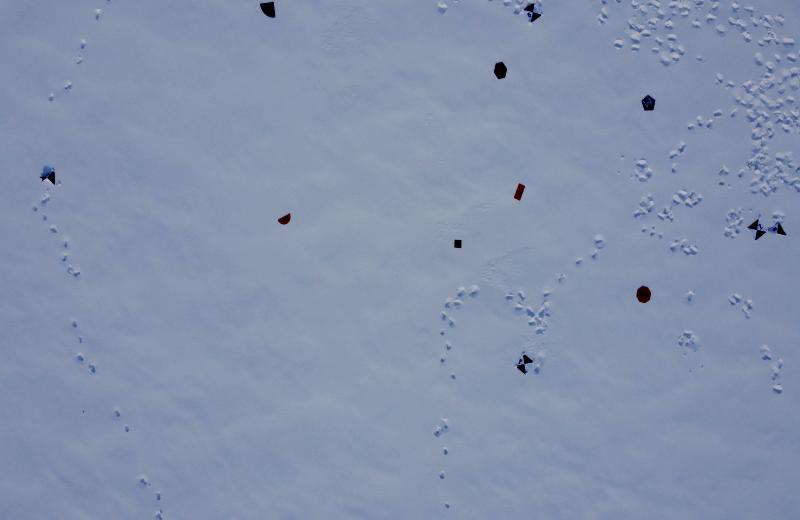Hexagon: (493, 62, 508, 80)
Octagon: (637, 286, 651, 303)
Pentagon: (642, 95, 656, 112)
Quarter Circle: (259, 2, 277, 18)
Rectangle: (514, 183, 526, 202)
Semi Circle: (277, 213, 292, 225)
Square: (454, 239, 462, 249)
